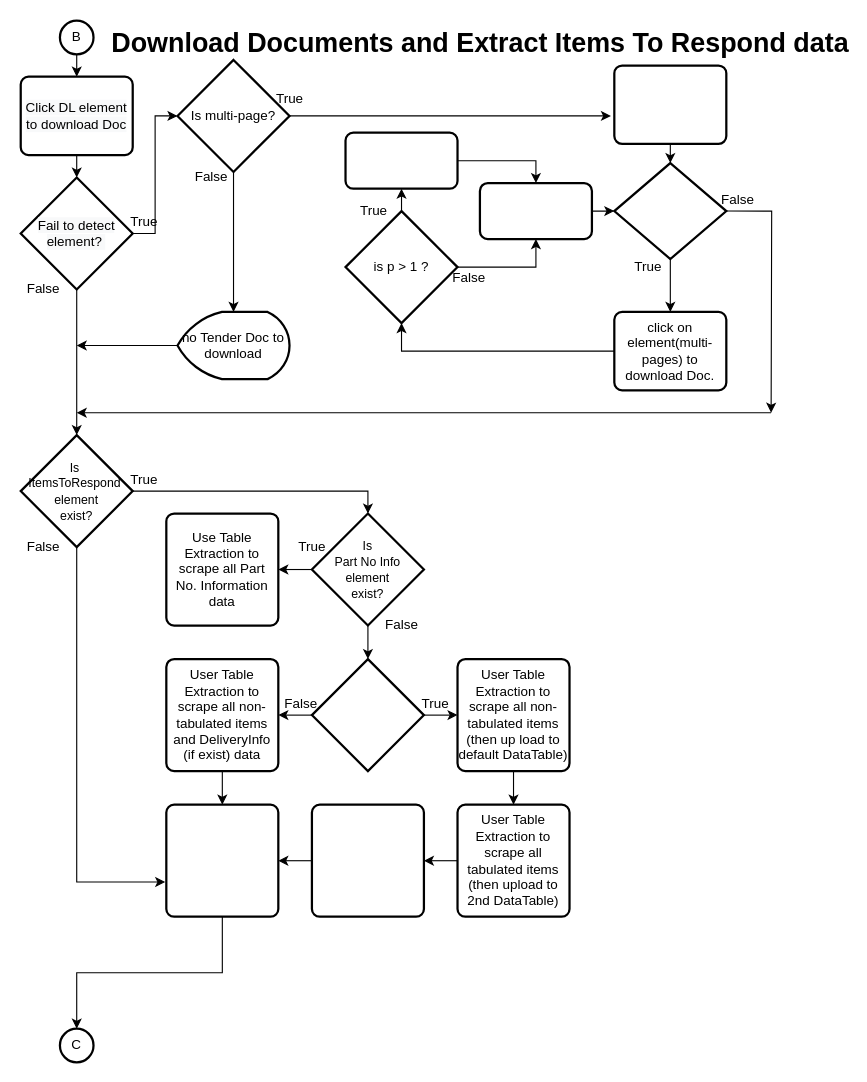
This 867x1082 diagram has some shape labels left out. The centre of each missing label's shape, as x and y in pixels:
"Click on Next Page icon" goes at (x=401, y=160).
"Insert 1st 3 columns to DT_ITR to fill in keyword, OpenIndex, DateTime." goes at (x=222, y=860).
"Is ITEMS element exist?" goes at (x=367, y=714).
"Merge the 2nd DataTable to the default DataTable DT_ITR" goes at (x=367, y=860).
"p = p-1" goes at (x=535, y=210).
"Scrape the nbr shown on the download pages and assign it to P" goes at (x=670, y=104).
"While loop p > 0" goes at (x=670, y=210).
